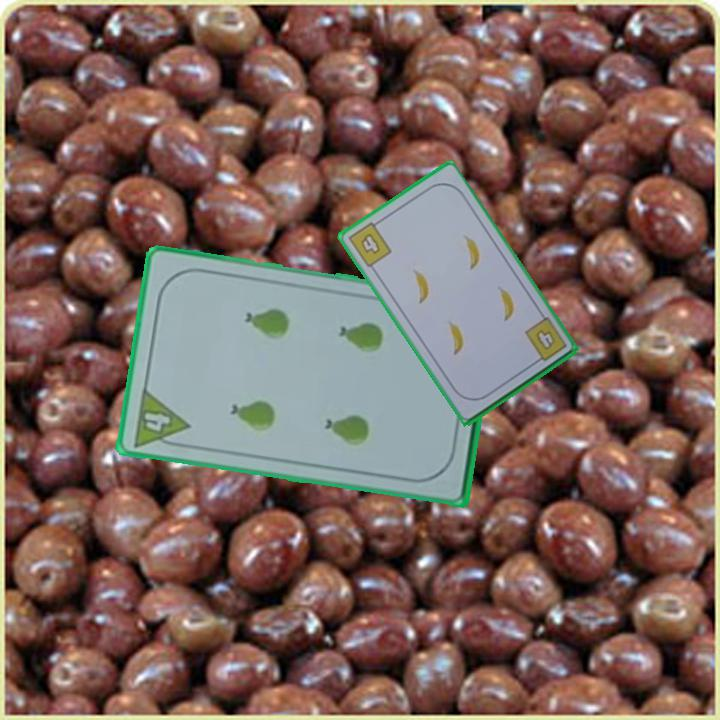4b: (344, 216, 394, 270), (521, 313, 570, 367)
4p: (130, 385, 192, 452)
